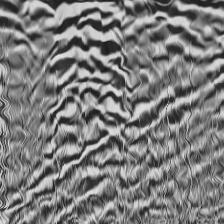cavities: (26, 0, 127, 163)
